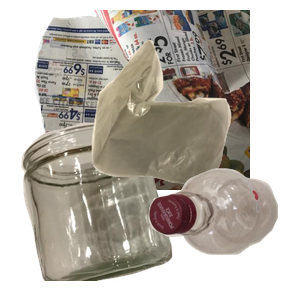glass: (19, 120, 184, 300)
paper: (32, 10, 272, 190)
plastic: (146, 166, 300, 300)
trash: (89, 37, 300, 213)
